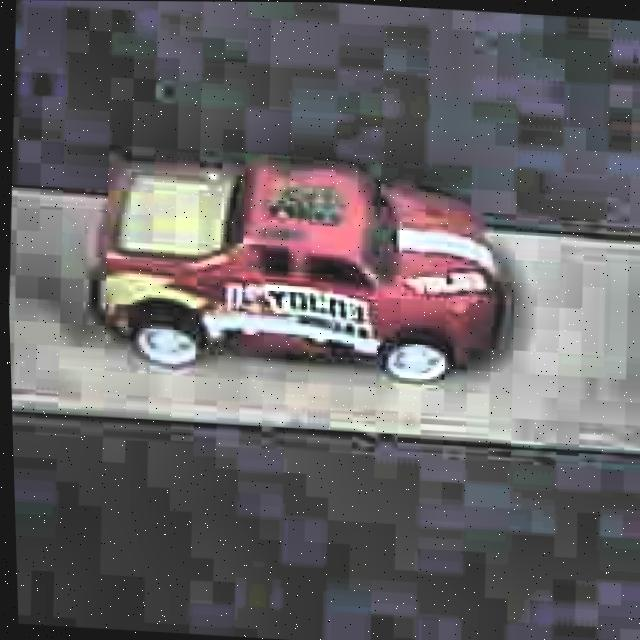car: (82, 144, 516, 390)
